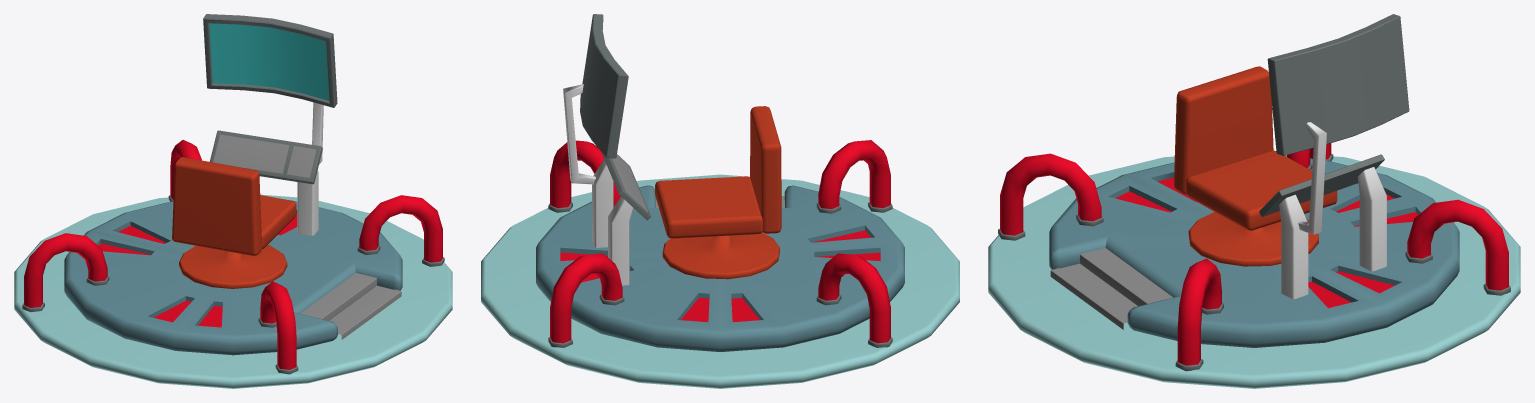
File: Machinewithlaptop1.fbx
3 views of the same model, side by side, from view 1: azimuth 30°, elevation 25°; view 2: azimuth 150°, elevation 25°; view 3: azimuth 270°, elevation 25° (orthographic). The views are drawn at different scales.
Visible parts, largest first — view 1: Machinewithlaptop1; view 2: Machinewithlaptop1; view 3: Machinewithlaptop1.
Boxes of the visible parts, left/top/right/bottom form: Machinewithlaptop1: left=14, top=14, right=452, bottom=388; Machinewithlaptop1: left=481, top=14, right=959, bottom=388; Machinewithlaptop1: left=988, top=14, right=1520, bottom=388.
Size of the model in its own units: 6.68 by 3.84 by 6.58.
